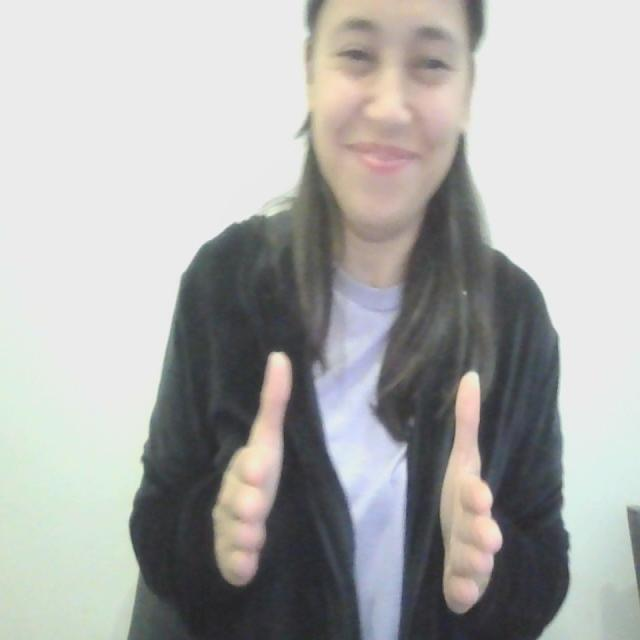Nasil: (197, 335, 514, 608)
